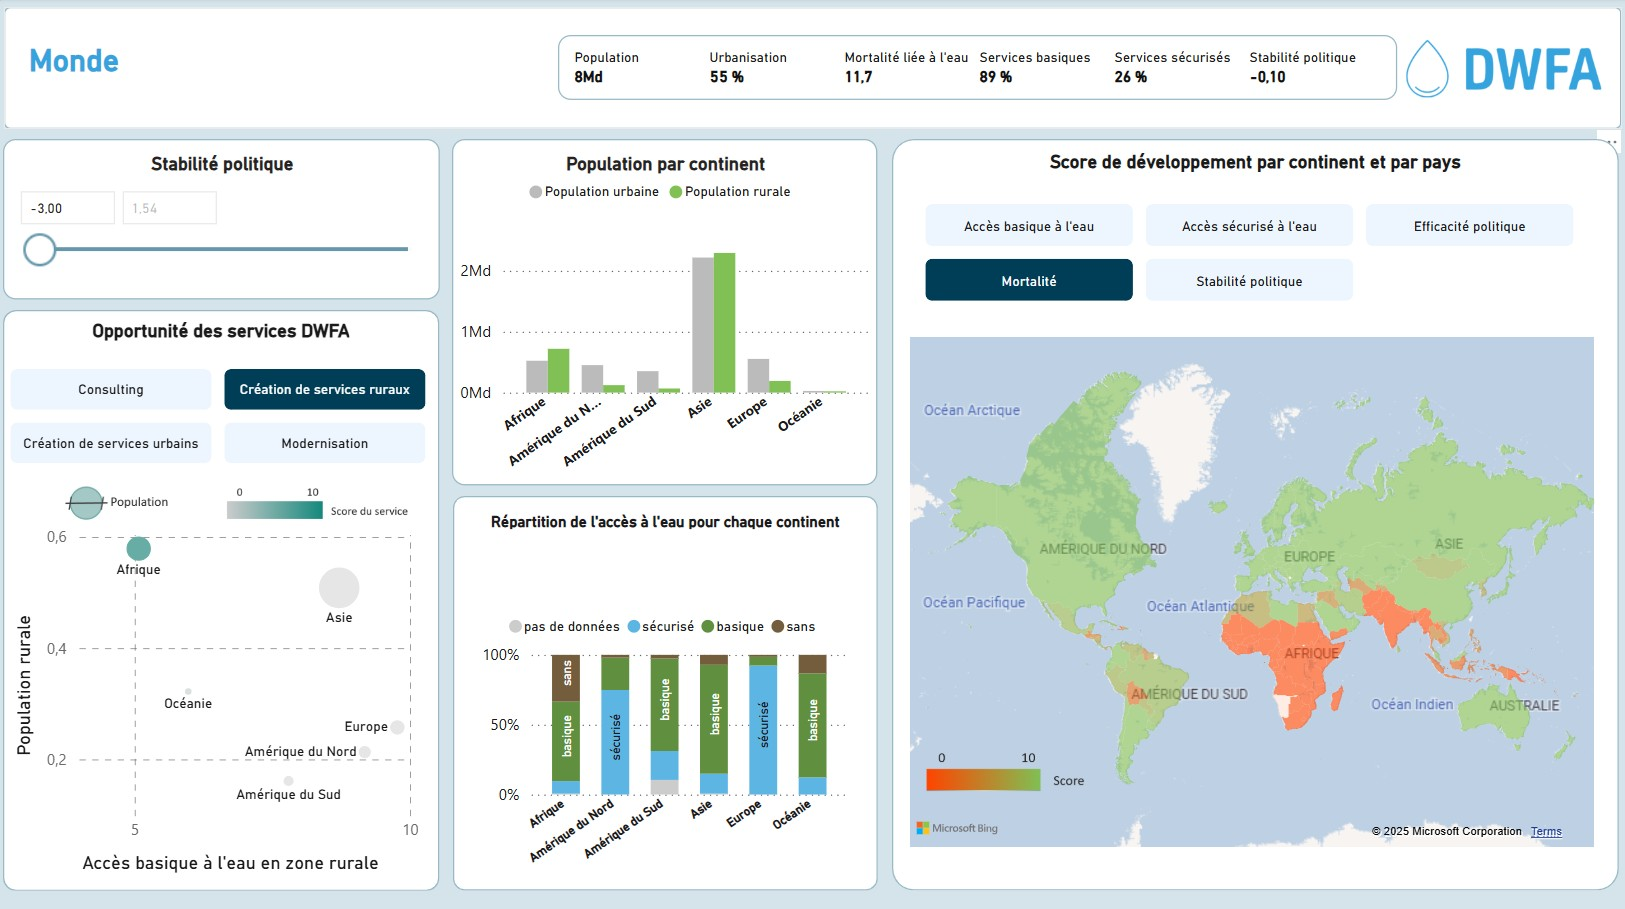

Layout of this report page (visuals, bound fields, positions):
{"tool":"powerbi","page":{"name":"Monde","canvas":[1280,720],"ordinal":0},"visuals":[{"type":"shape","box":[4.3,6.9,1270,95.7],"z":0},{"type":"shape","box":[701.1,111,570.7,590.1],"z":0,"group":"g2"},{"type":"shape","box":[3.5,244.8,342.6,456.2],"z":0,"group":"g1"},{"type":"image","box":[1100,18.1,163,74.2],"z":1000},{"type":"shape","box":[356.3,390.9,333.5,309.8],"z":2000},{"type":"scatterChart","title":"Opportunité des services DWFA","fields":{"X":["scatterplot._x_axis"],"Y":["scatterplot._y_axis"],"Category":["continent.french_name"],"Size":["scatterplot.size"]},"box":[32.7,394,302.4,282.3],"z":2000,"group":"g1"},{"type":"cardVisual","fields":{"Data":["observations_measures.population","observations_measures.urban_rate","last_measures.wash_mortality","observations_measures.basic_drinking_water_rate","observations_measures.safe_drinking_water_rate","observations_measures.political_stablity"]},"box":[439,28.8,659,50.9],"z":3000},{"type":"filledMap","fields":{"Category":["country.continent","country.BI_name"]},"box":[710.5,262,546.8,409.7],"z":3000,"group":"g2"},{"type":"slicer","title":"Stabilité politique","fields":{"Values":["country.political_stability"]},"box":[3.5,111,342.6,125.9],"z":4000},{"type":"clusteredColumnChart","title":"Population par continent","fields":{"Category":["continent.continent_french_name"],"Y":["select1","select"]},"box":[355.8,111,333.8,272.1],"z":5000},{"type":"shape","box":[120,35.5,310,57.3],"z":6000},{"type":"shape","title":"Monde","box":[23.3,35,84.5,29.3],"z":7000},{"type":"advancedSlicerVisual","fields":{"Values":["scatterplot.plot_title"]},"box":[4.4,291.4,336.4,75.9],"z":7000,"group":"g1"},{"type":"advancedSlicerVisual","fields":{"Values":["scores_pivot.score_french_name"]},"box":[722.7,161.9,520.1,76.8],"z":8000,"group":"g2"},{"type":"shape","box":[6.9,410.1,25.8,257.4],"z":8000,"group":"g1"},{"type":"hundredPercentStackedColumnChart","title":"Répartition de l''accès à l''eau pour chaque continent","fields":{"Y":["observations_measures.unknown_drinking_water","observations_measures.safe_drinking_water","observations_measures.only_basic_drinking_water","observations_measures.no_drinking_water"],"Category":["continent.continent_french_name"]},"box":[374.1,469.1,297.9,220.7],"z":8000},{"type":"group","id":"g1","title":"Groupe 1","box":[3.5,244.8,342.6,456.2],"z":9000},{"type":"shape","box":[43.1,667.8,278.9,21.8],"z":9000,"group":"g1"},{"type":"group","id":"g2","title":"Groupe 2","box":[701.1,111,570.7,590.1],"z":10000},{"type":"image","box":[47.4,371,96.6,52.6],"z":11000},{"type":"image","box":[722.7,571.8,144.5,70],"z":12000},{"type":"shape","box":[120,35.5,310,57.3],"z":13000},{"type":"image","box":[172.7,366.4,160,60.9],"z":14000}]}

Visuals, with their boxes in screenshot pixels (x1, y1, x2, y2), scaled from the page's 1280x720 canvas onto the 1625x909 screenshot:
shape: 5, 9, 1618, 130
shape: 890, 140, 1615, 885
shape: 4, 309, 439, 885
image: 1396, 23, 1603, 117
shape: 452, 494, 876, 885
"Opportunité des services DWFA" scatterChart: 42, 497, 425, 854
cardVisual - observations_measures.population x observations_measures.urban_rate: 557, 36, 1394, 101
filledMap - country.continent x country.BI_name: 902, 331, 1596, 848
"Stabilité politique" slicer: 4, 140, 439, 299
"Population par continent" clusteredColumnChart: 452, 140, 875, 484
shape: 152, 45, 546, 117
"Monde" shape: 30, 44, 137, 81
advancedSlicerVisual - scatterplot.plot_title: 6, 368, 433, 464
advancedSlicerVisual - scores_pivot.score_french_name: 917, 204, 1578, 301
shape: 9, 518, 42, 843
"Répartition de l''accès à l''eau pour chaque continent" hundredPercentStackedColumnChart: 475, 592, 853, 871
"Groupe 1" group: 4, 309, 439, 885
shape: 55, 843, 409, 871
"Groupe 2" group: 890, 140, 1615, 885
image: 60, 468, 183, 535
image: 917, 722, 1101, 810
shape: 152, 45, 546, 117
image: 219, 463, 422, 539
